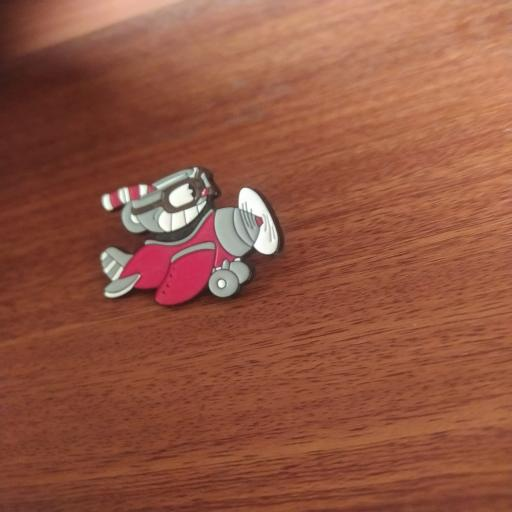Pin: (90, 162, 288, 314)
